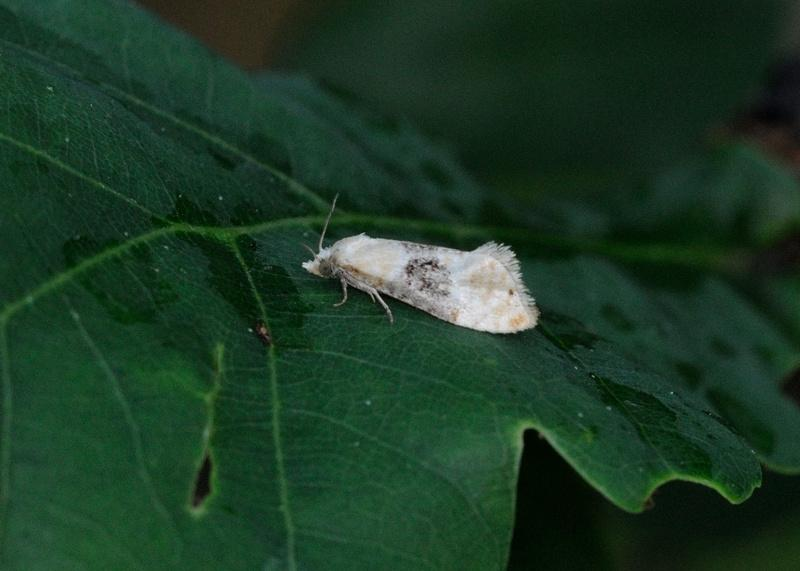Eupoecilia Ambiguella: (296, 189, 543, 338)
